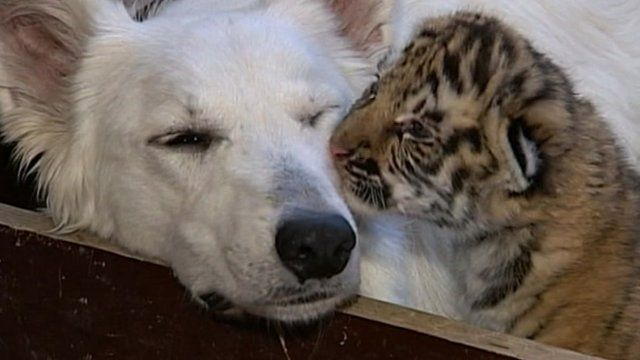dog: (3, 2, 640, 319)
tiger: (332, 12, 638, 360)
